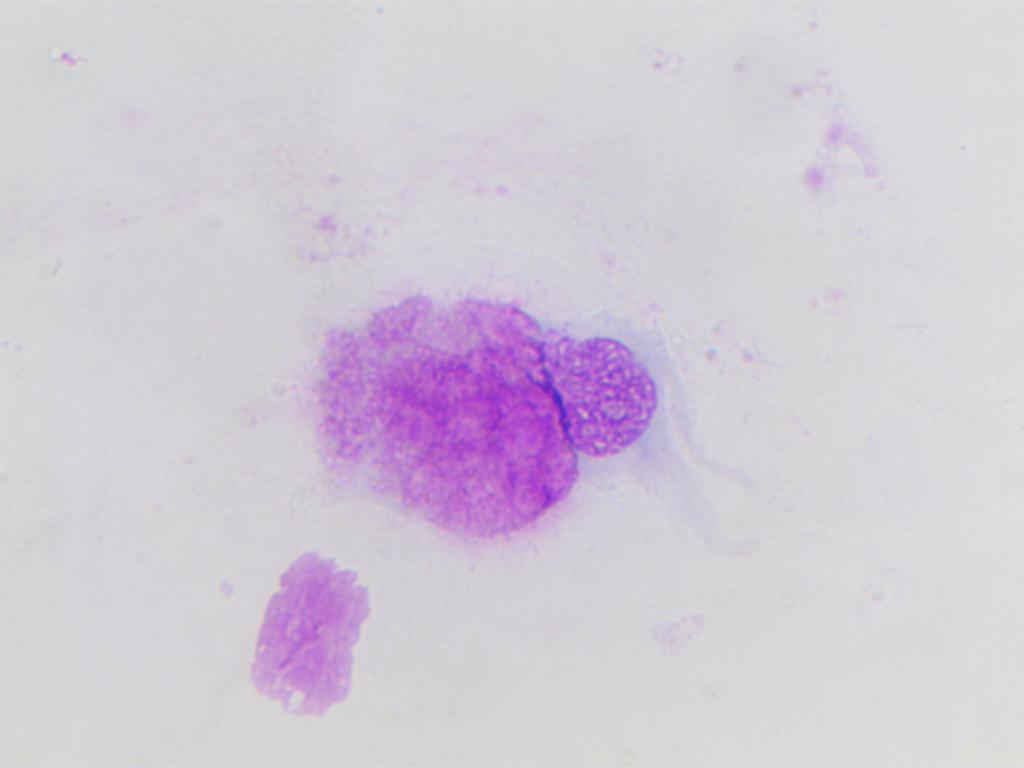artifact: (229, 544, 391, 720)
goblet_cell: (299, 277, 676, 542)
